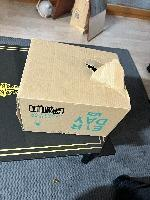damaged package: (82, 61, 110, 76)
undamaged: (11, 33, 132, 142)
